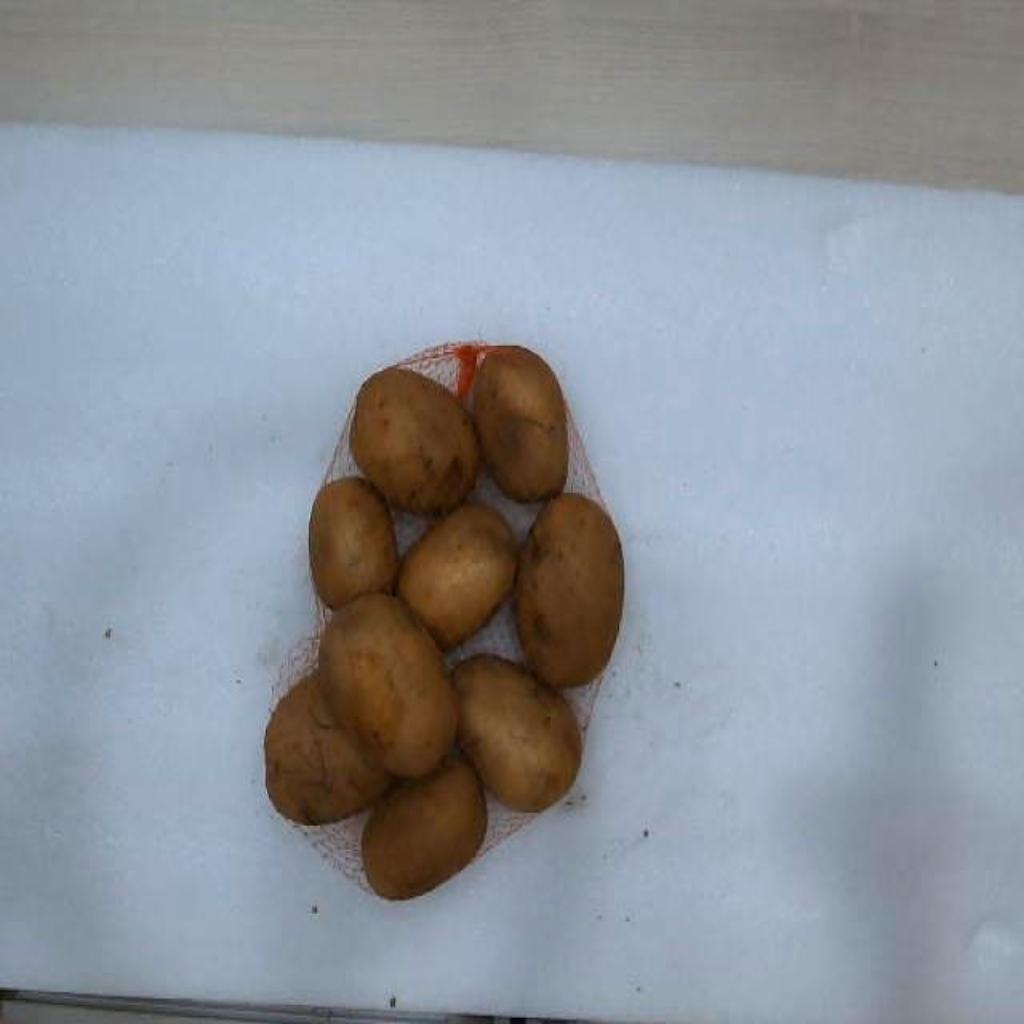potato: (318, 592, 460, 779), (516, 493, 624, 687), (452, 656, 582, 811), (264, 672, 394, 823), (350, 368, 480, 515), (362, 757, 486, 897), (396, 504, 514, 648), (472, 349, 568, 500), (310, 477, 398, 608)
